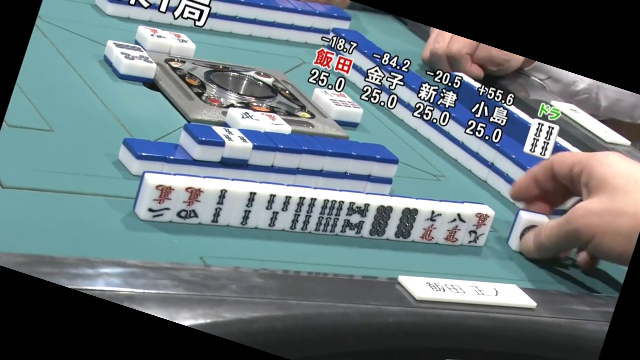Tehai: (129, 159, 494, 257)
